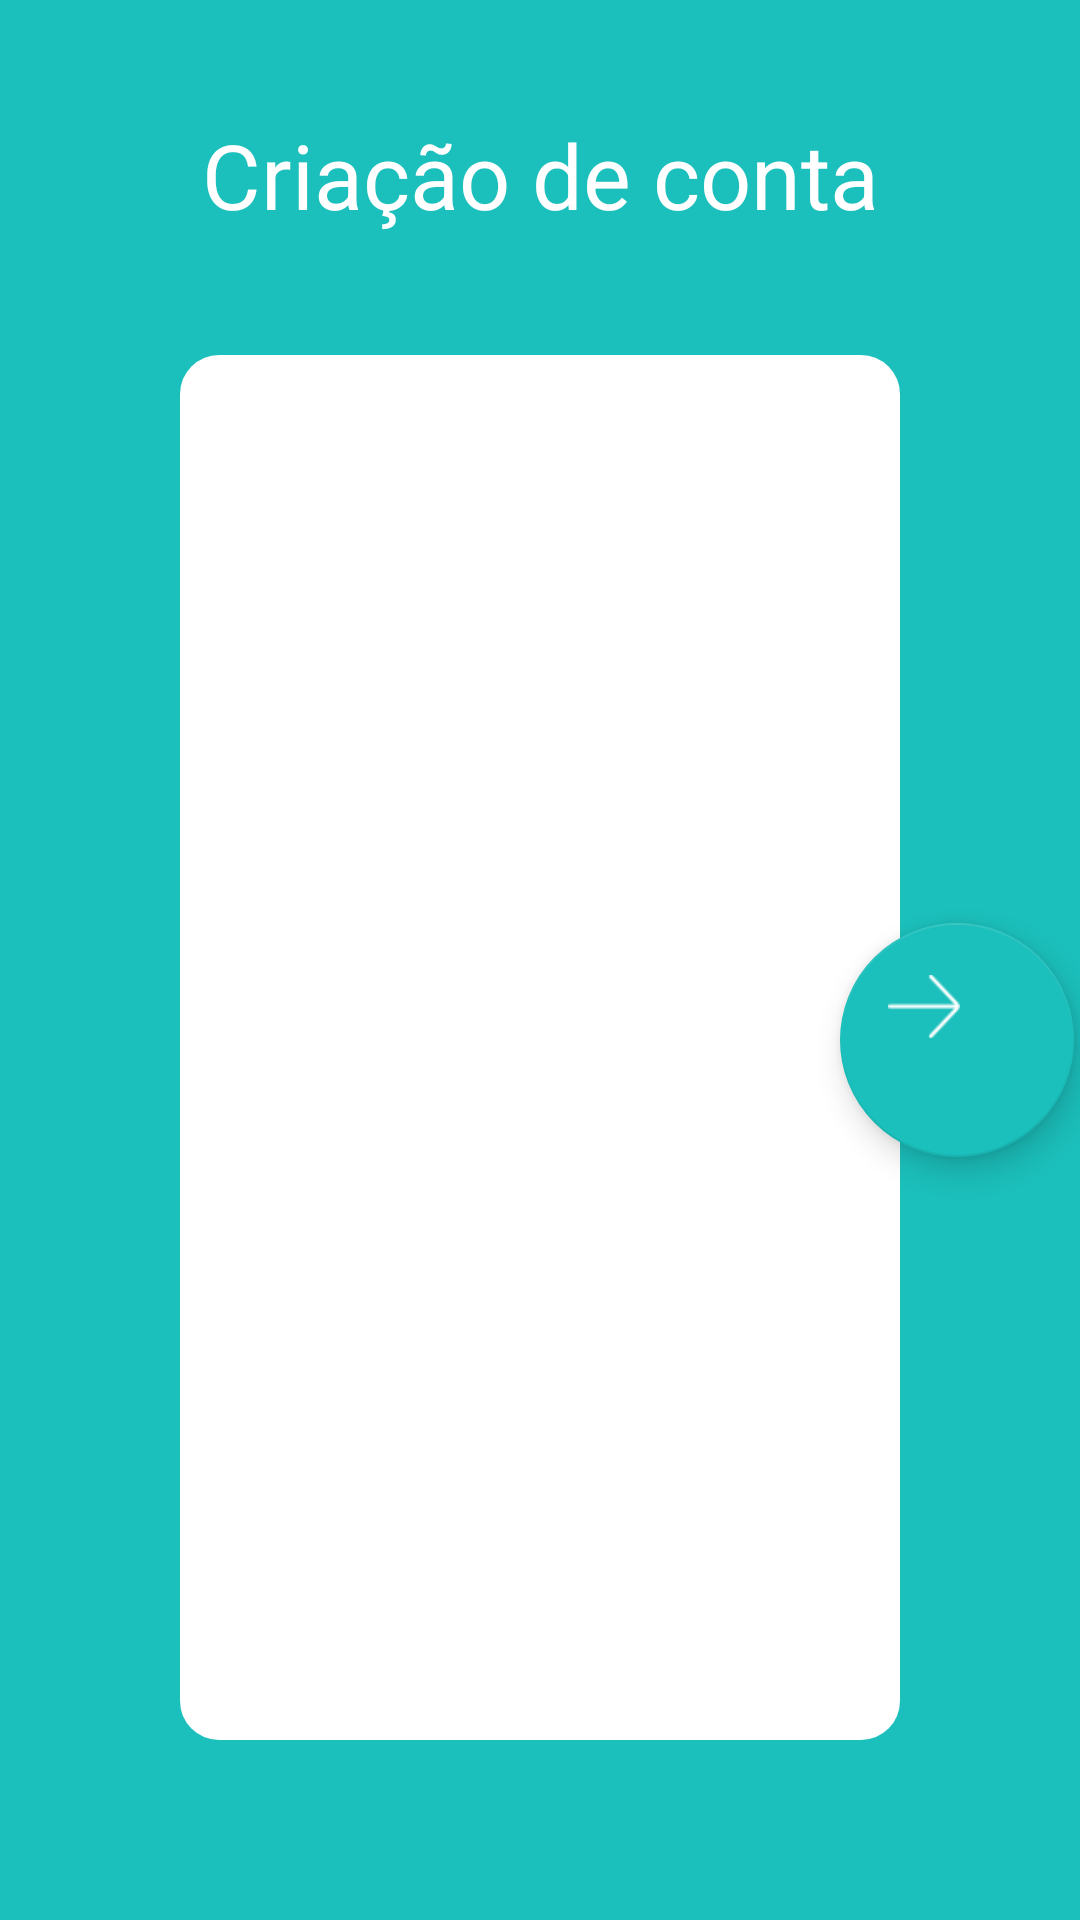

Icons on this 1080*1920 Android screen, each with the point to tap as (x=x, y=y):
next arrow: (x=957, y=1040)
